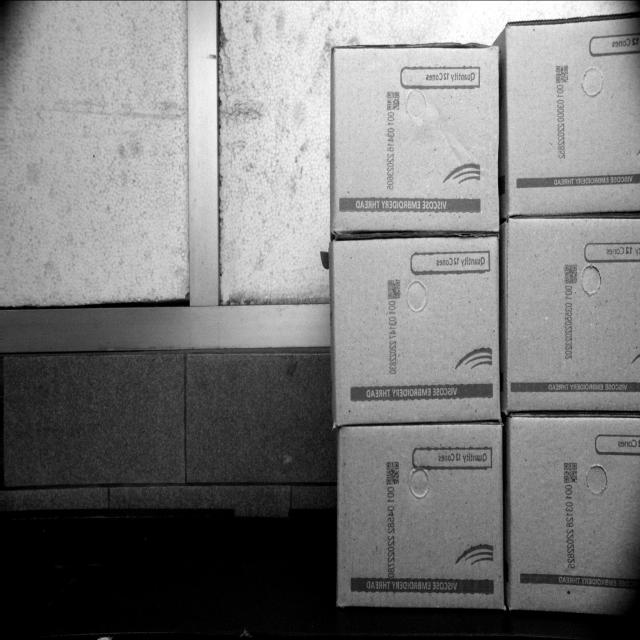cardboxes: (331, 45, 500, 236), (332, 242, 499, 424), (337, 426, 501, 605), (503, 220, 640, 414), (507, 16, 640, 215), (507, 421, 640, 619)
